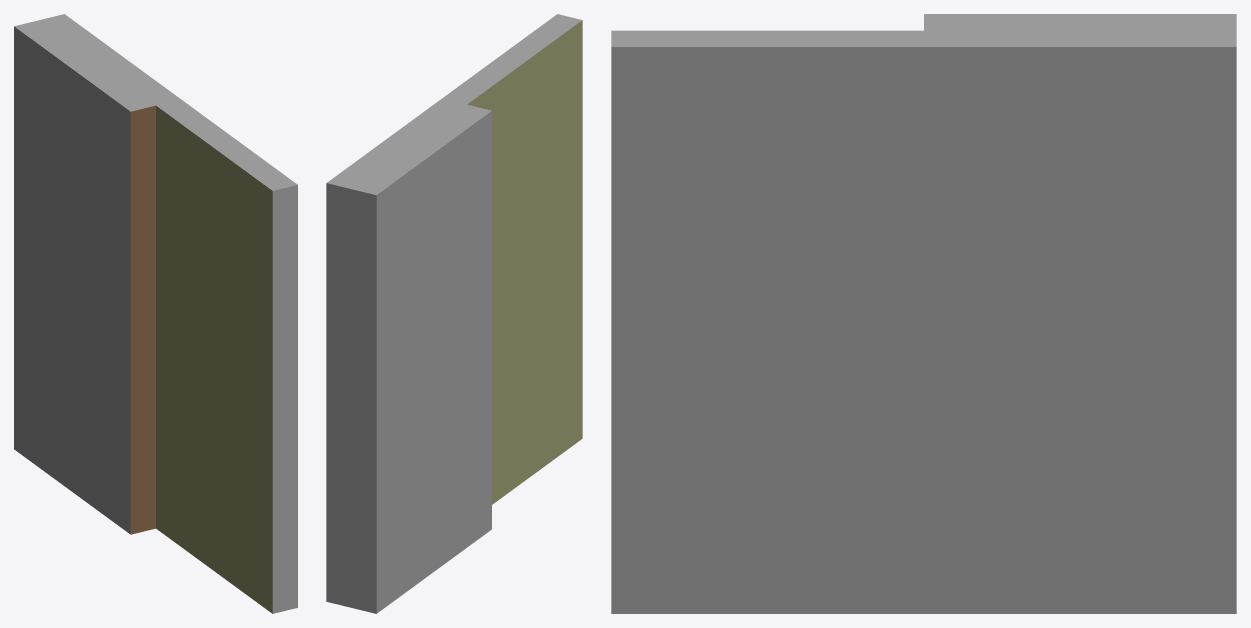
The model's file is CM_Half_Wall8x8.fbx.
3 views of the same model, side by side, from view 1: azimuth 30°, elevation 25°; view 2: azimuth 150°, elevation 25°; view 3: azimuth 270°, elevation 25° (orthographic). The views are drawn at different scales.
Parts seen in each view (by area): view 1: CM_Half_Wall8x8; view 2: CM_Half_Wall8x8; view 3: CM_Half_Wall8x8.
Part boxes in pixels (x1,y1,x2,y2): CM_Half_Wall8x8: (14, 14, 297, 613); CM_Half_Wall8x8: (326, 14, 582, 613); CM_Half_Wall8x8: (611, 14, 1236, 613).
Size of the model in its own units: 100 by 800 by 800.
